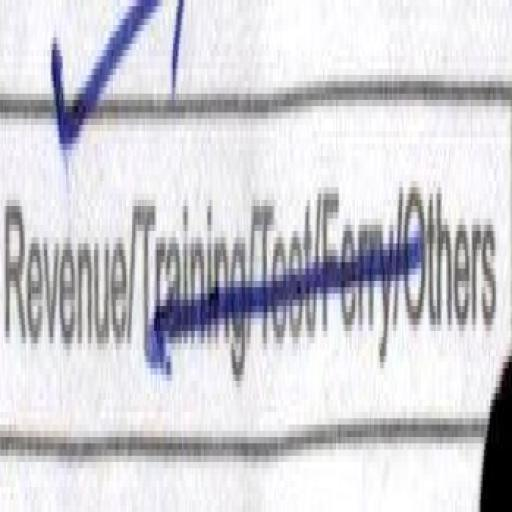check: (2, 2, 130, 450)
